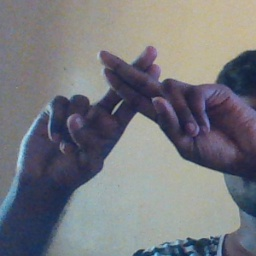F: (65, 43, 201, 152)
